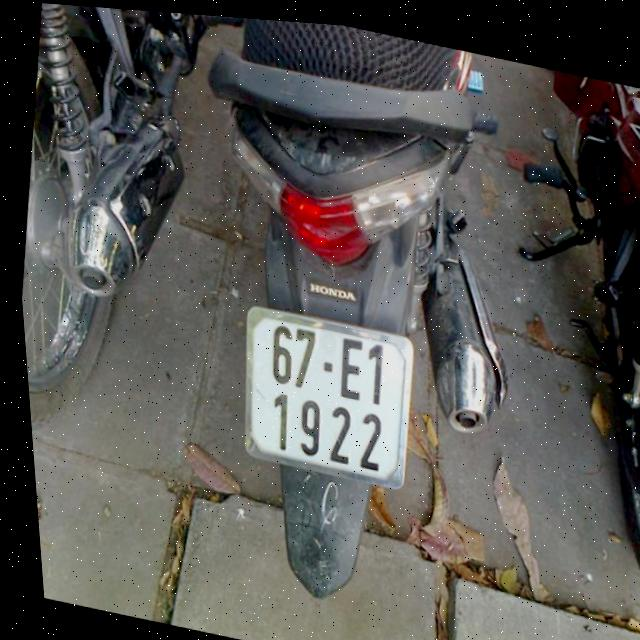motorcycle: (139, 10, 561, 639), (0, 0, 267, 479), (451, 61, 640, 640)
plate: (224, 295, 429, 496)
